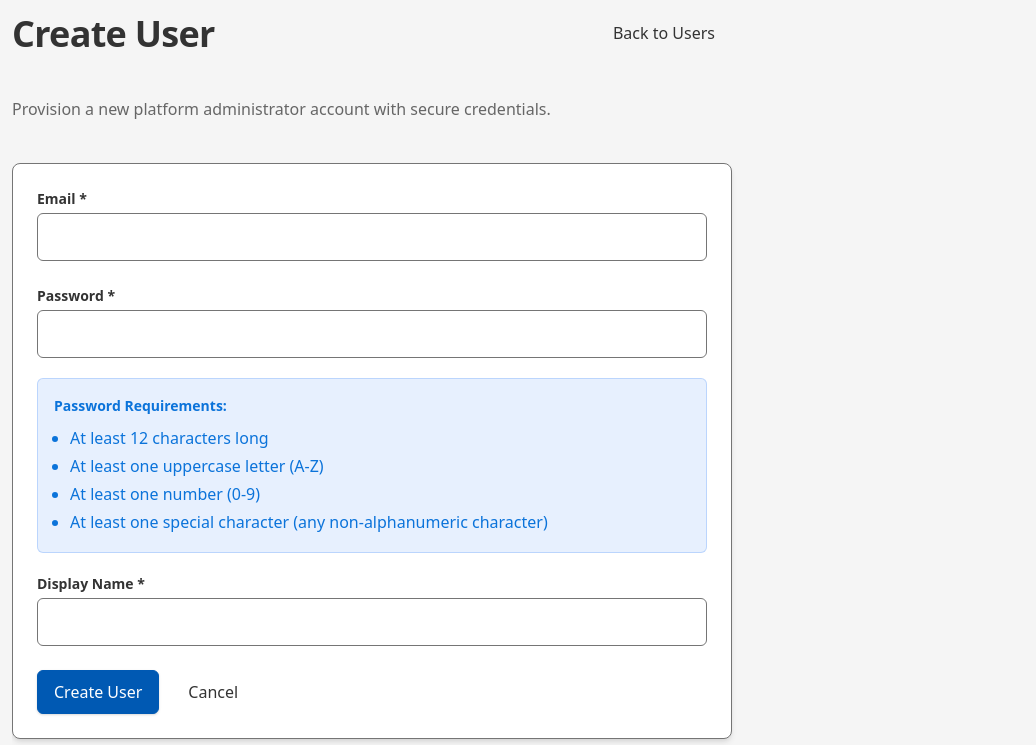
it: UserCreatePage › displays error message on validation error (400)
The width and height of the screenshot is (1036, 745).
# Fill in the form
Type "existing@example.com" into the field labelled "Email *".
click(372, 237); type("existing@example.com")  # box [37,213,707,261]
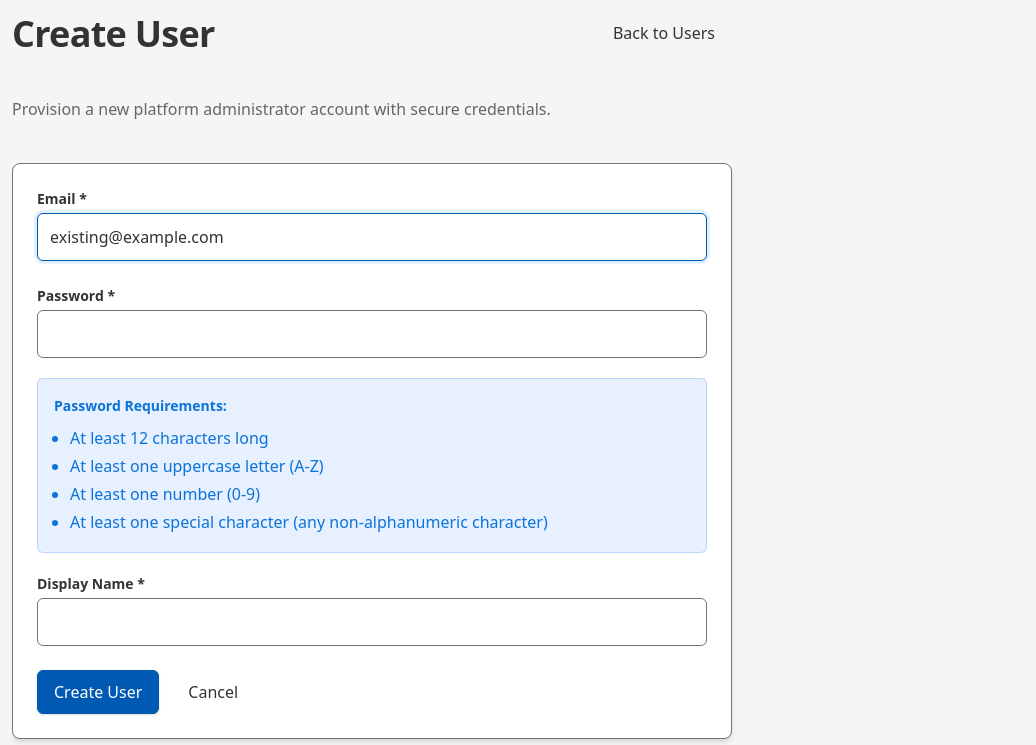
Type "Password123!" into the password field labelled "Password *".
click(372, 334); type("Password123!")  # box [37,310,707,358]
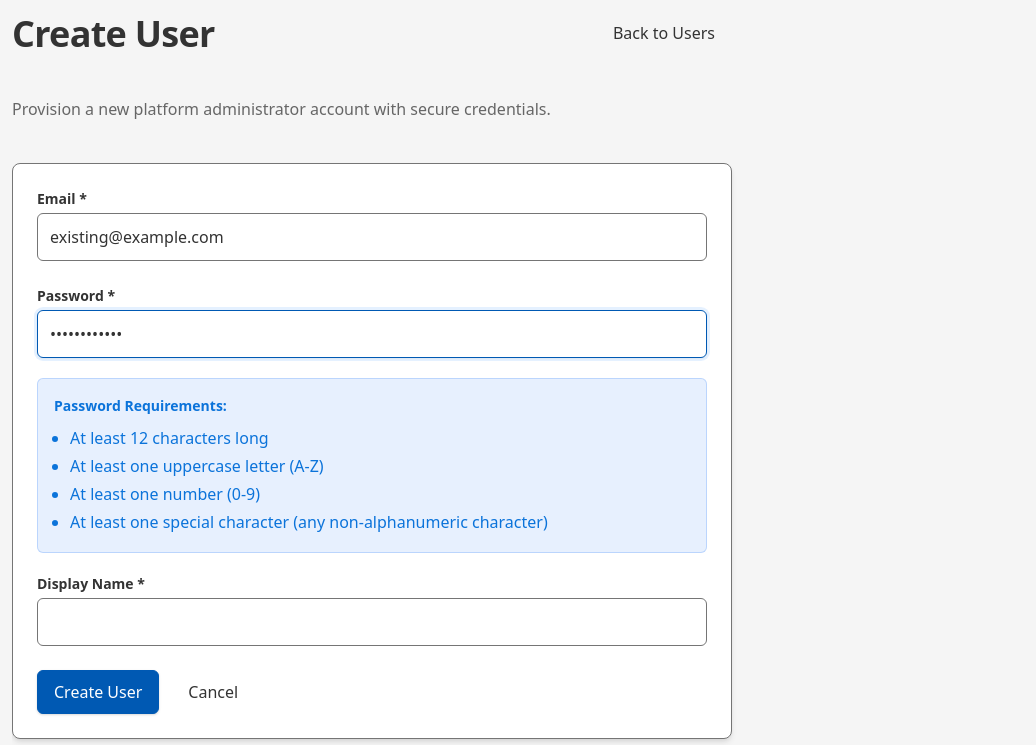
Type "Test User" into the field labelled "Display Name *".
click(372, 622); type("Test User")  # box [37,598,707,646]
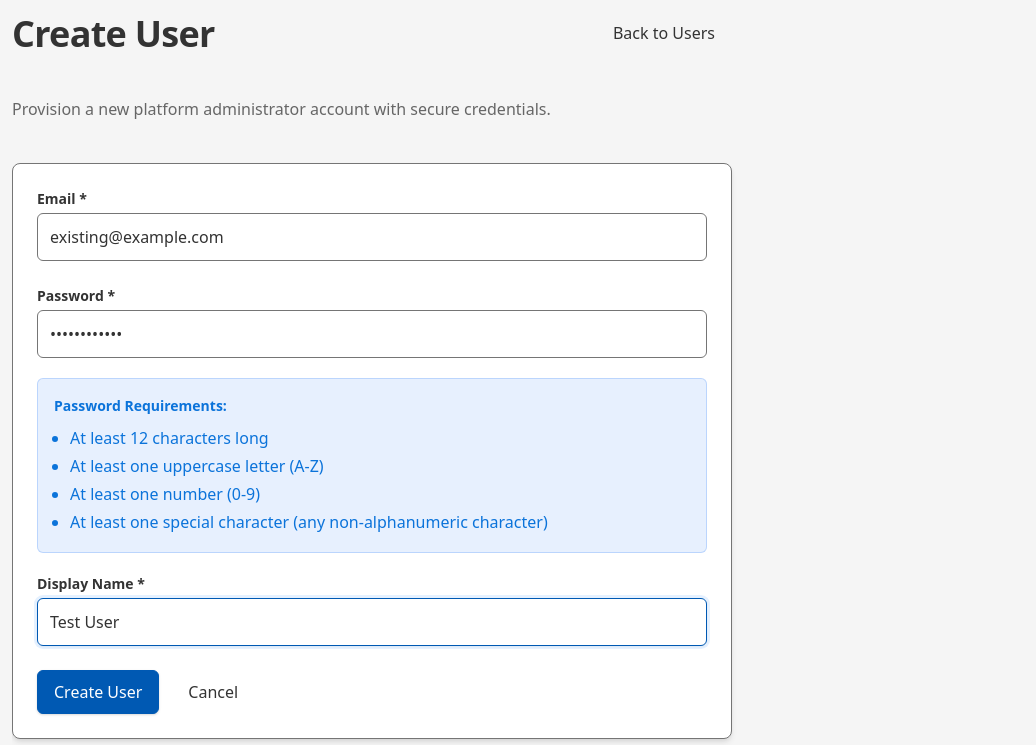
# Submit the form
Click the button "Create User".
click(98, 692)  # box [37,670,159,714]
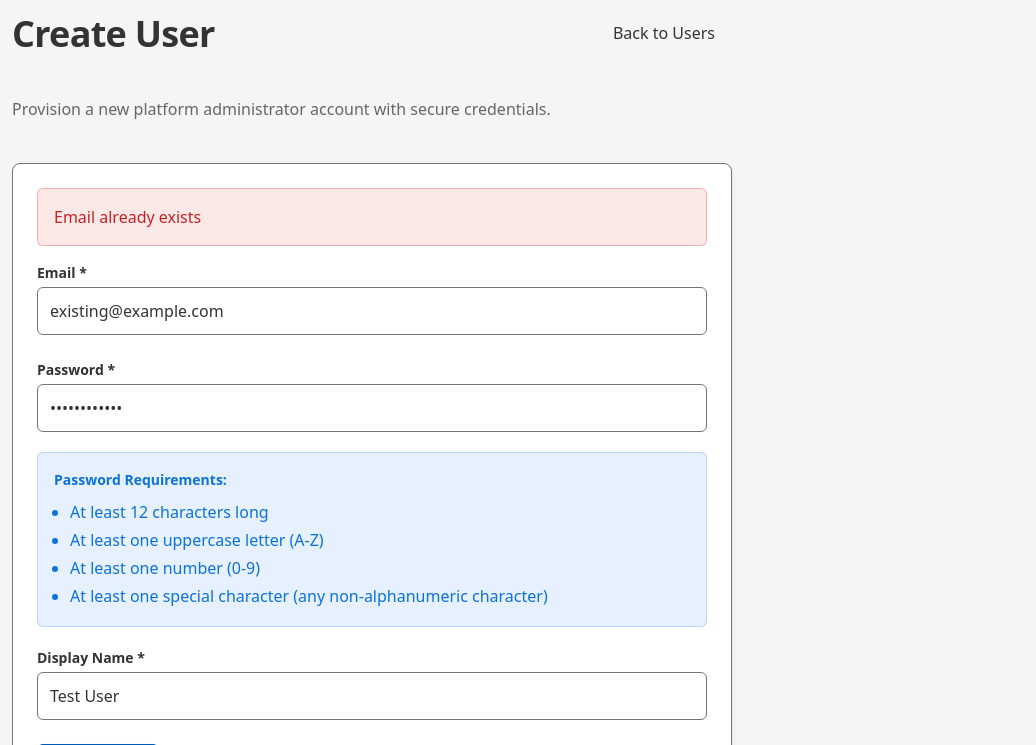
Result: the text "Email already exists" is shown at [37,188,707,246]
